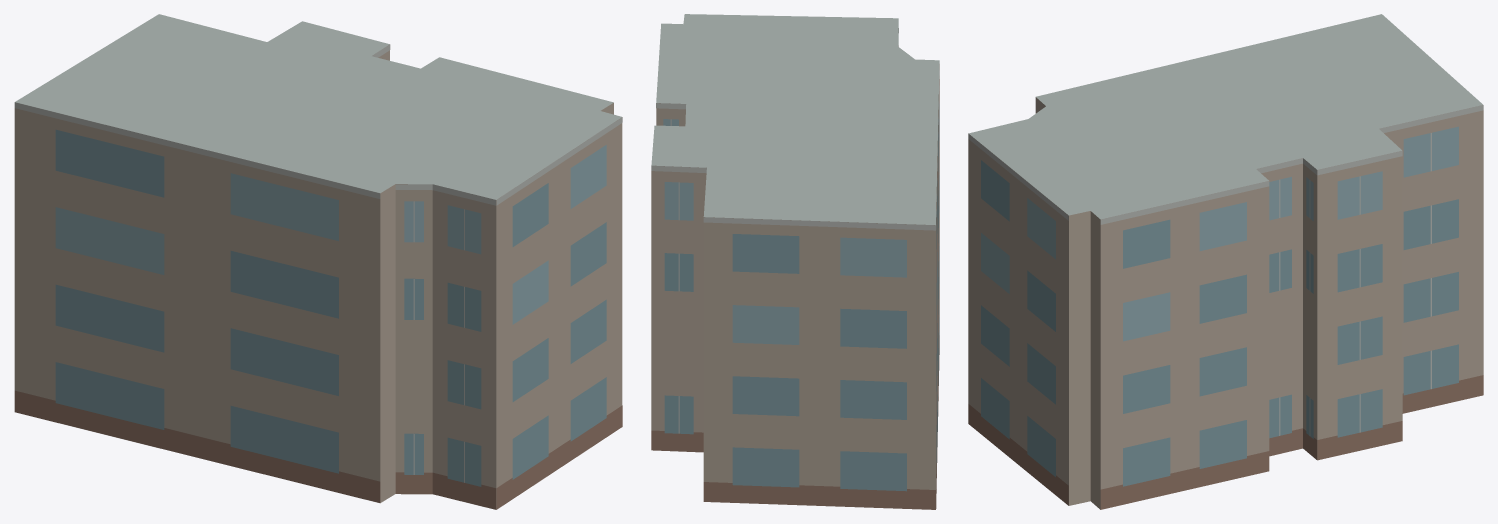
The model's file is survey-upis-32671136.glb.
3 renders of one model, left to right at view 1: azimuth 30°, elevation 25°; view 2: azimuth 150°, elevation 25°; view 3: azimuth 270°, elevation 25°, orthographic. The views are drawn at different scales.
Parts seen in each view (by area): view 1: survey-upis-32671136.tmp; view 2: survey-upis-32671136.tmp; view 3: survey-upis-32671136.tmp.
Part boxes in pixels (<box>): survey-upis-32671136.tmp: <box>14,14,622,509</box>; survey-upis-32671136.tmp: <box>651,14,939,509</box>; survey-upis-32671136.tmp: <box>968,14,1483,509</box>.
Size of the model in its own units: 19.43 by 12.8 by 20.58.
